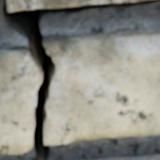brick: (6, 0, 149, 12), (95, 155, 159, 159)
broken_brick: (42, 30, 159, 145), (0, 47, 41, 154)
crack: (1, 0, 159, 159)
